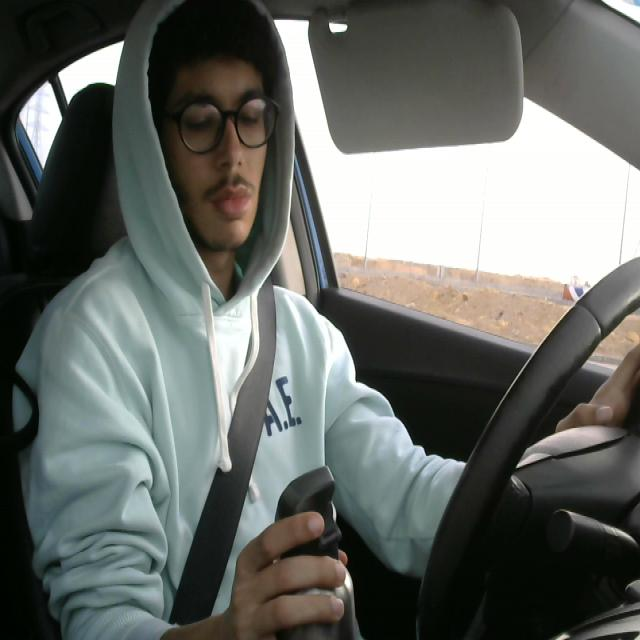drinking: (269, 452, 365, 640)
